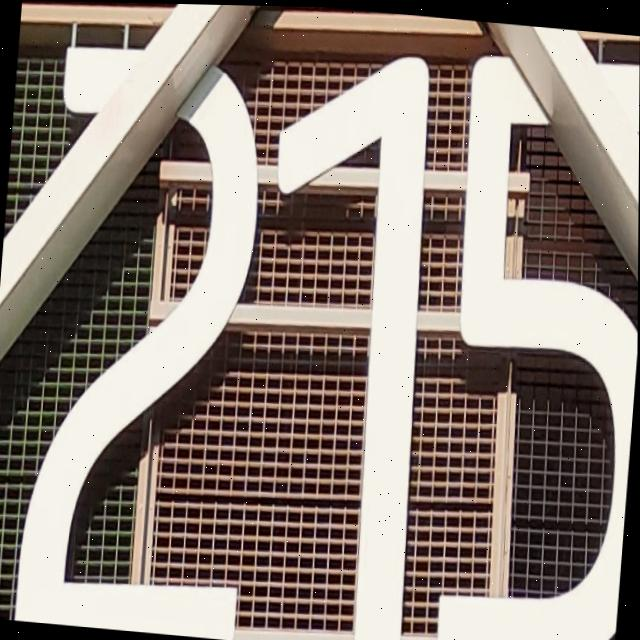character: (11, 34, 285, 640), (421, 34, 640, 640), (238, 36, 451, 640)
